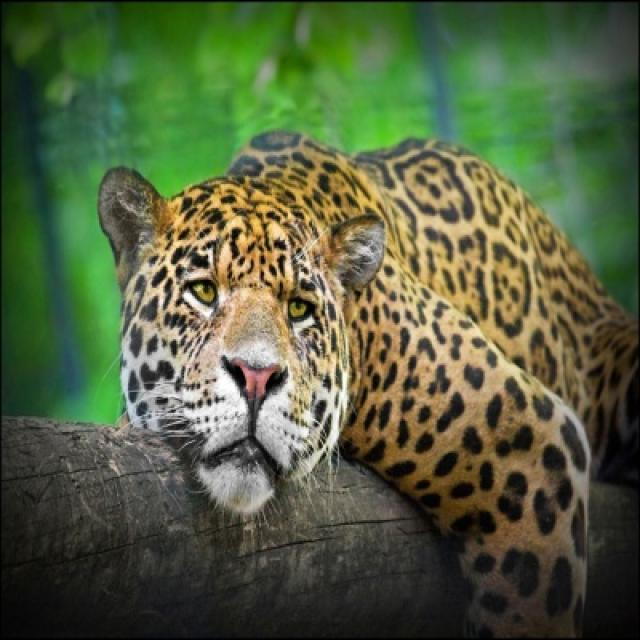Jaguar: (96, 131, 635, 638)
